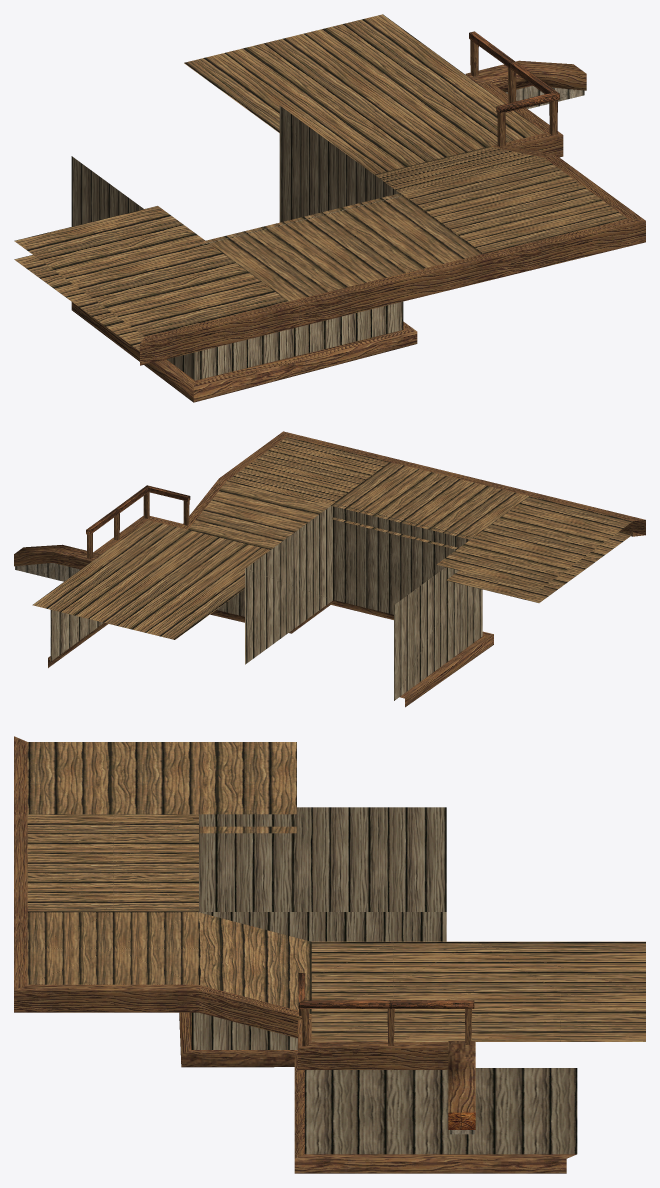
The model's file is LAKETOWN_EXTERIOR_PS_LT_DOCKPARTS7756__GX.obj.
3 renders of one model, top to bottom at view 1: azimuth 30°, elevation 25°; view 2: azimuth 150°, elevation 25°; view 3: azimuth 270°, elevation 25°, orthographic. The views are drawn at different scales.
Visible parts, largest first — view 1: ckParts7756__GX; view 2: ckParts7756__GX; view 3: ckParts7756__GX.
Boxes of the visible parts, x1=… form: ckParts7756__GX: x1=14, y1=14, x2=645, y2=402; ckParts7756__GX: x1=14, y1=431, x2=645, y2=707; ckParts7756__GX: x1=14, y1=736, x2=645, y2=1173.
Size of the model in its own units: 1600 by 377 by 1292.
